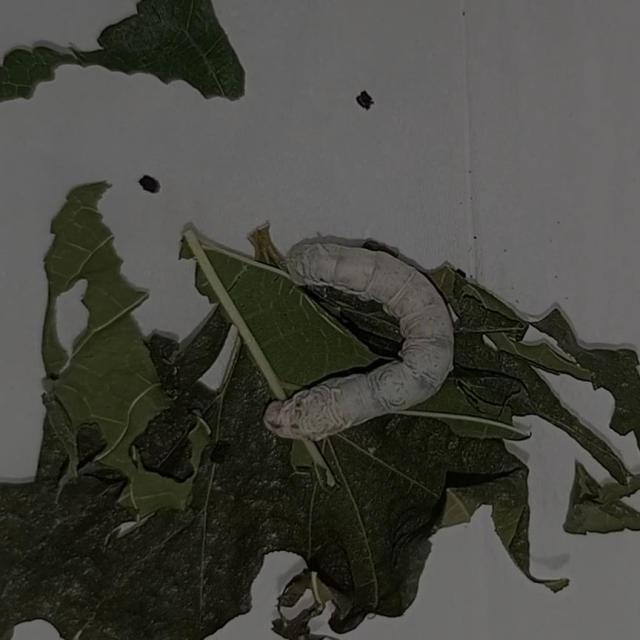Healthy: (250, 220, 480, 464)
